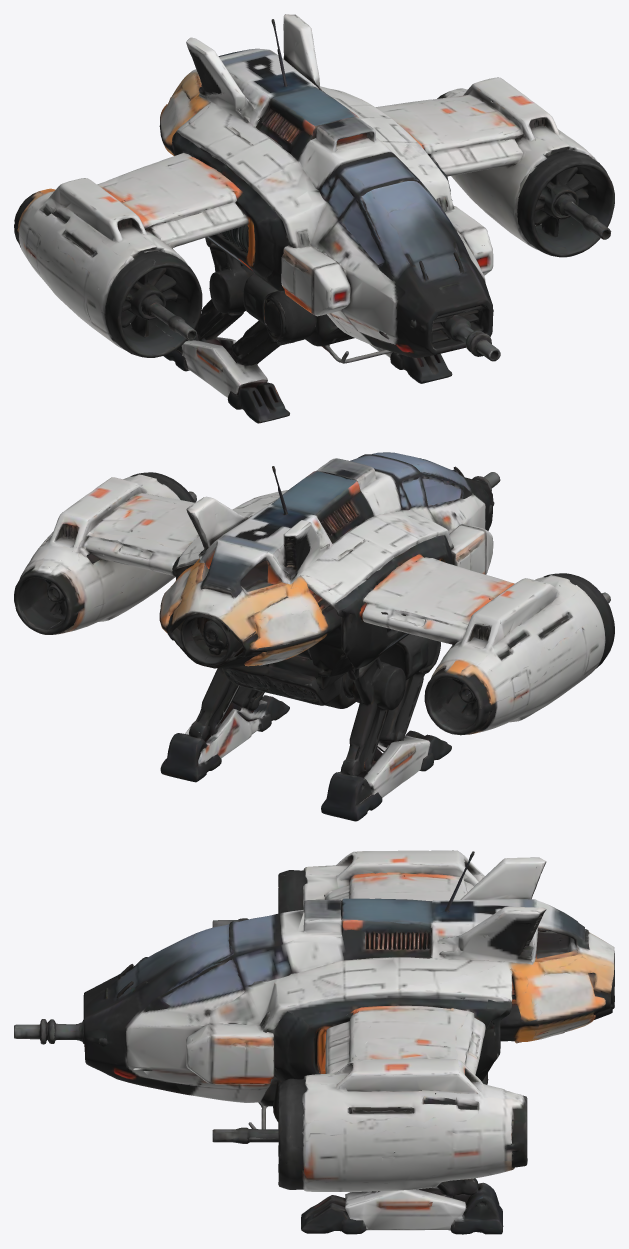
File: detail_7.glb
The picture shows the model from 3 angles, top to bottom: view 1: azimuth 30°, elevation 25°; view 2: azimuth 150°, elevation 25°; view 3: azimuth 270°, elevation 25°; orthographic projection. The views are drawn at different scales.
Size of the model in its own units: 1 by 0.6129 by 0.9993.
Materials: 1 (1 with a texture image).
